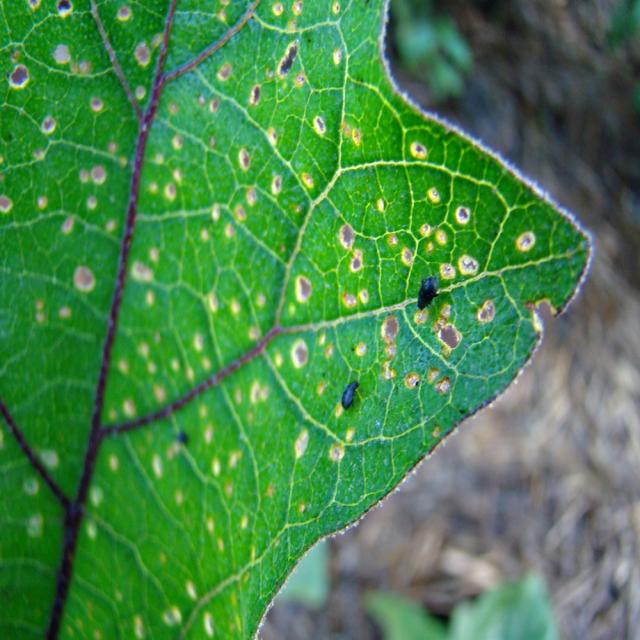flea_beetle: (336, 360, 371, 419), (412, 266, 444, 324)
